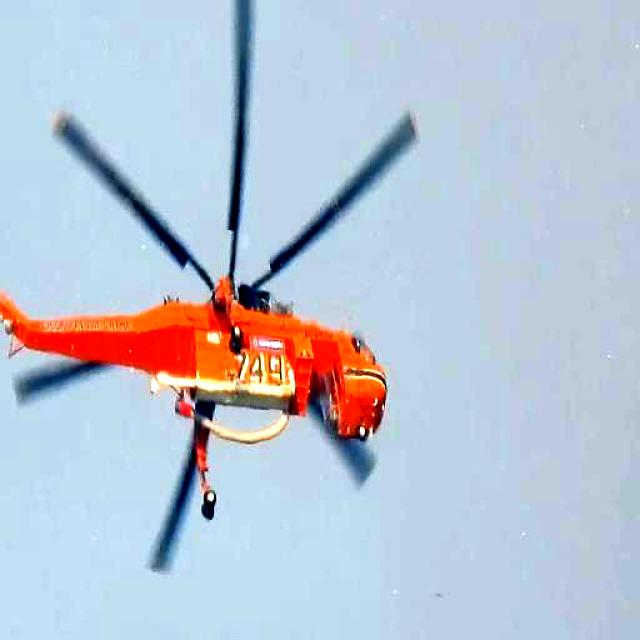drone: (0, 0, 422, 572)
